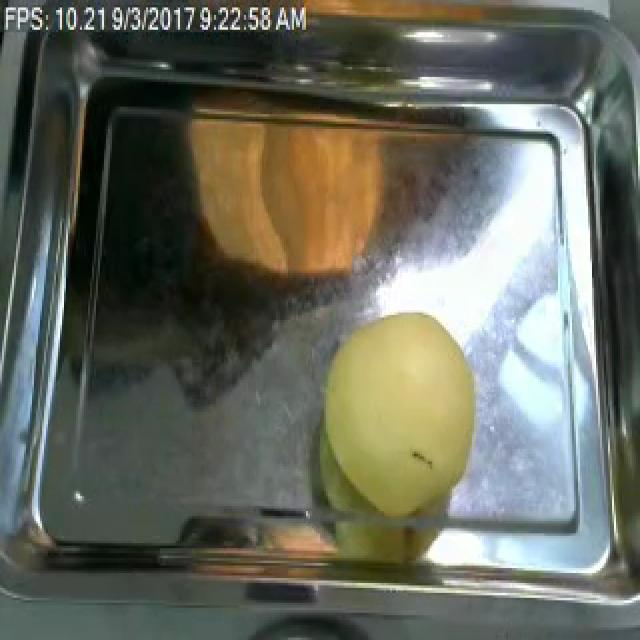Fruit: (174, 72, 410, 293), (302, 300, 488, 531)
